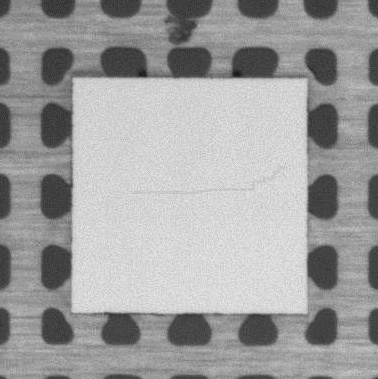DIE_CRACK: (129, 167, 288, 197)
